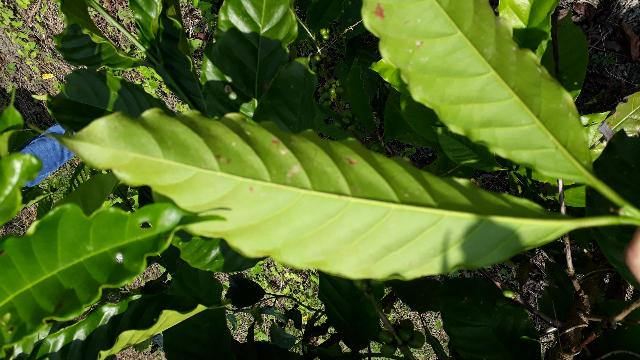rust_level_1: (28, 105, 574, 290)
